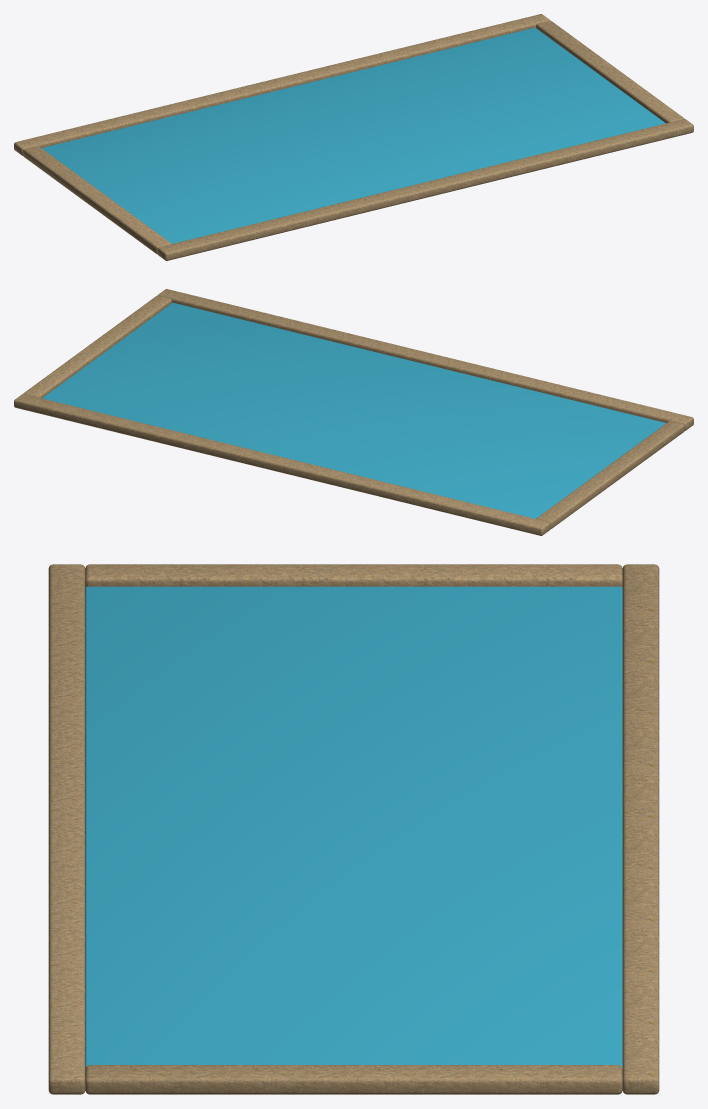
File: piscina_enterrada_rectangular_base.glb
3 renders of one model, top to bottom at view 1: azimuth 30°, elevation 25°; view 2: azimuth 150°, elevation 25°; view 3: azimuth 270°, elevation 25°, orthographic. The views are drawn at different scales.
Parts seen in each view (by area): view 1: piscina_enterrada_rectangular_base; view 2: piscina_enterrada_rectangular_base; view 3: piscina_enterrada_rectangular_base.
Boxes of the visible parts, bbox=[...] form: piscina_enterrada_rectangular_base: bbox=[14, 14, 693, 260]; piscina_enterrada_rectangular_base: bbox=[14, 289, 693, 535]; piscina_enterrada_rectangular_base: bbox=[48, 564, 659, 1094].
Size of the model in its own units: 6 by 0.0901 by 3.
Materials: 2 (1 with a texture image).
